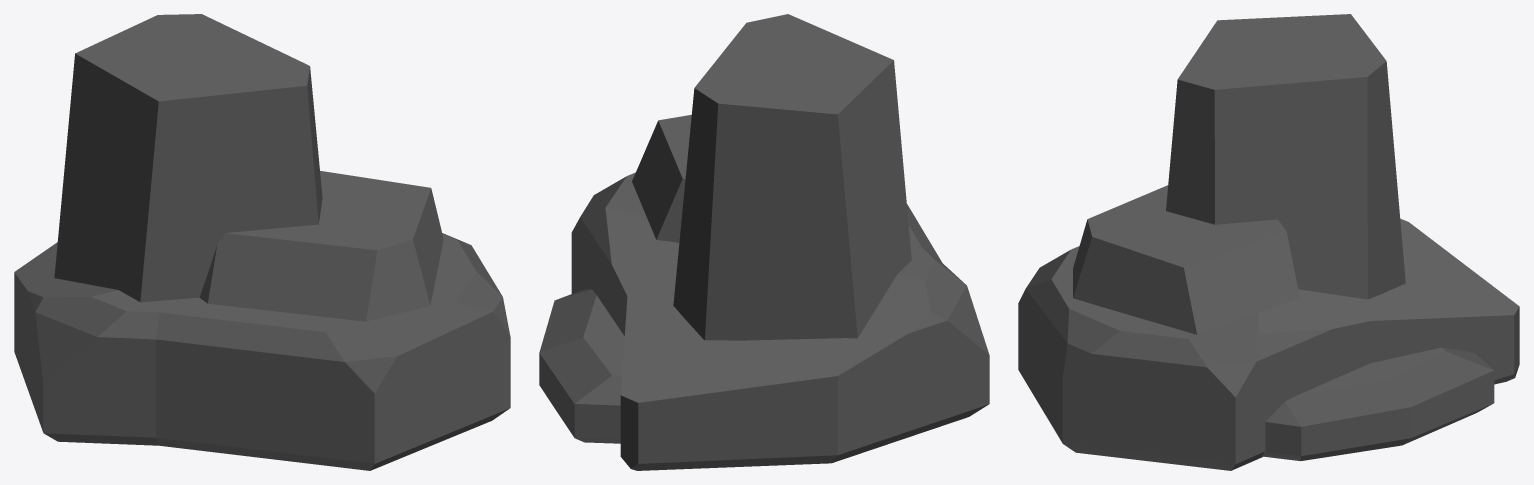
File: WastelandStone1.fbx
3 views of the same model, side by side, from view 1: azimuth 30°, elevation 25°; view 2: azimuth 150°, elevation 25°; view 3: azimuth 270°, elevation 25° (orthographic). The views are drawn at different scales.
Parts seen in each view (by area): view 1: WastelandStone1Piece_5, WastelandStone1Piece_1, WastelandStone1Piece_2, WastelandStone1Piece_4, WastelandStone1Piece_6, WastelandStone1Piece_3; view 2: WastelandStone1Piece_6, WastelandStone1Piece_2, WastelandStone1Piece_1, WastelandStone1Piece_3, WastelandStone1Piece_5; view 3: WastelandStone1Piece_6, WastelandStone1Piece_5, WastelandStone1Piece_2, WastelandStone1Piece_1, WastelandStone1Piece_4, WastelandStone1Piece_3.
Boxes of the visible parts, <box> form: WastelandStone1Piece_5: <box>43,233,510,470</box>; WastelandStone1Piece_1: <box>75,14,320,218</box>; WastelandStone1Piece_2: <box>54,54,322,302</box>; WastelandStone1Piece_4: <box>236,188,443,321</box>; WastelandStone1Piece_6: <box>14,242,117,431</box>; WastelandStone1Piece_3: <box>199,171,430,306</box>; WastelandStone1Piece_6: <box>539,208,989,470</box>; WastelandStone1Piece_2: <box>673,88,911,340</box>; WastelandStone1Piece_1: <box>694,14,904,175</box>; WastelandStone1Piece_3: <box>632,120,690,242</box>; WastelandStone1Piece_5: <box>580,172,989,354</box>; WastelandStone1Piece_6: <box>1231,219,1519,470</box>; WastelandStone1Piece_5: <box>1018,246,1258,470</box>; WastelandStone1Piece_2: <box>1166,61,1405,299</box>; WastelandStone1Piece_1: <box>1168,14,1386,203</box>; WastelandStone1Piece_4: <box>1073,185,1196,334</box>; WastelandStone1Piece_3: <box>1180,215,1299,334</box>.
Size of the model in its own units: 267 by 199 by 290.
